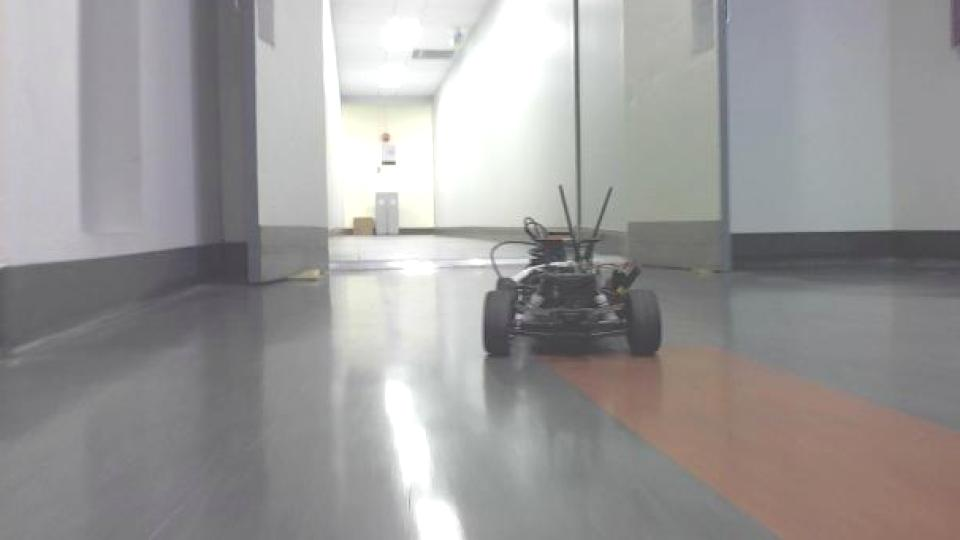car: (477, 181, 665, 361)
